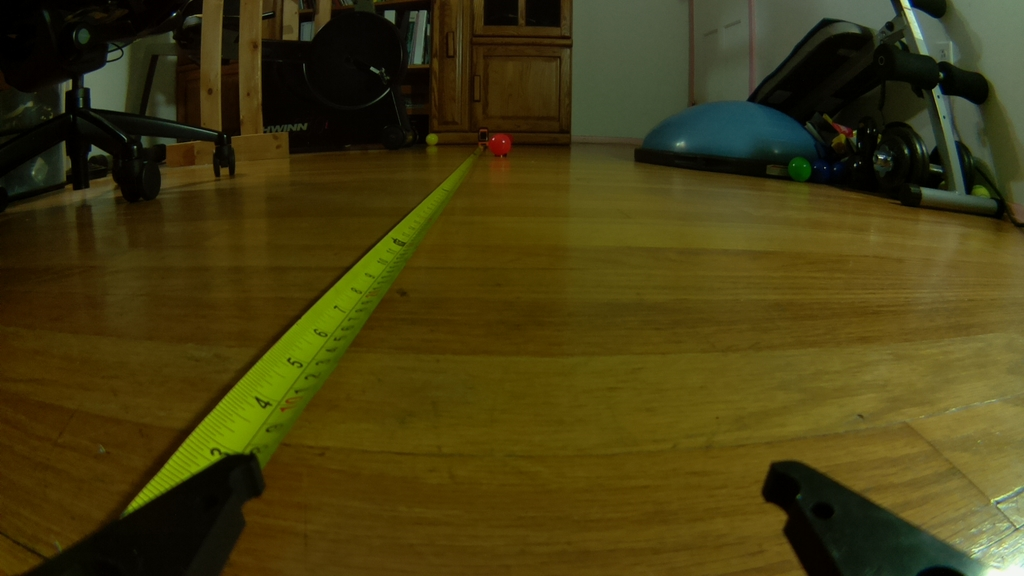ball: (486, 133, 512, 156)
